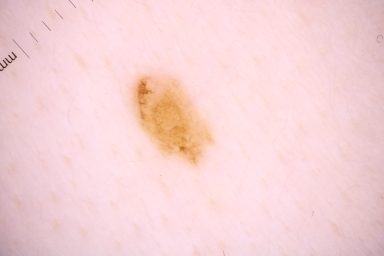melanoma: (137, 73, 213, 163)
